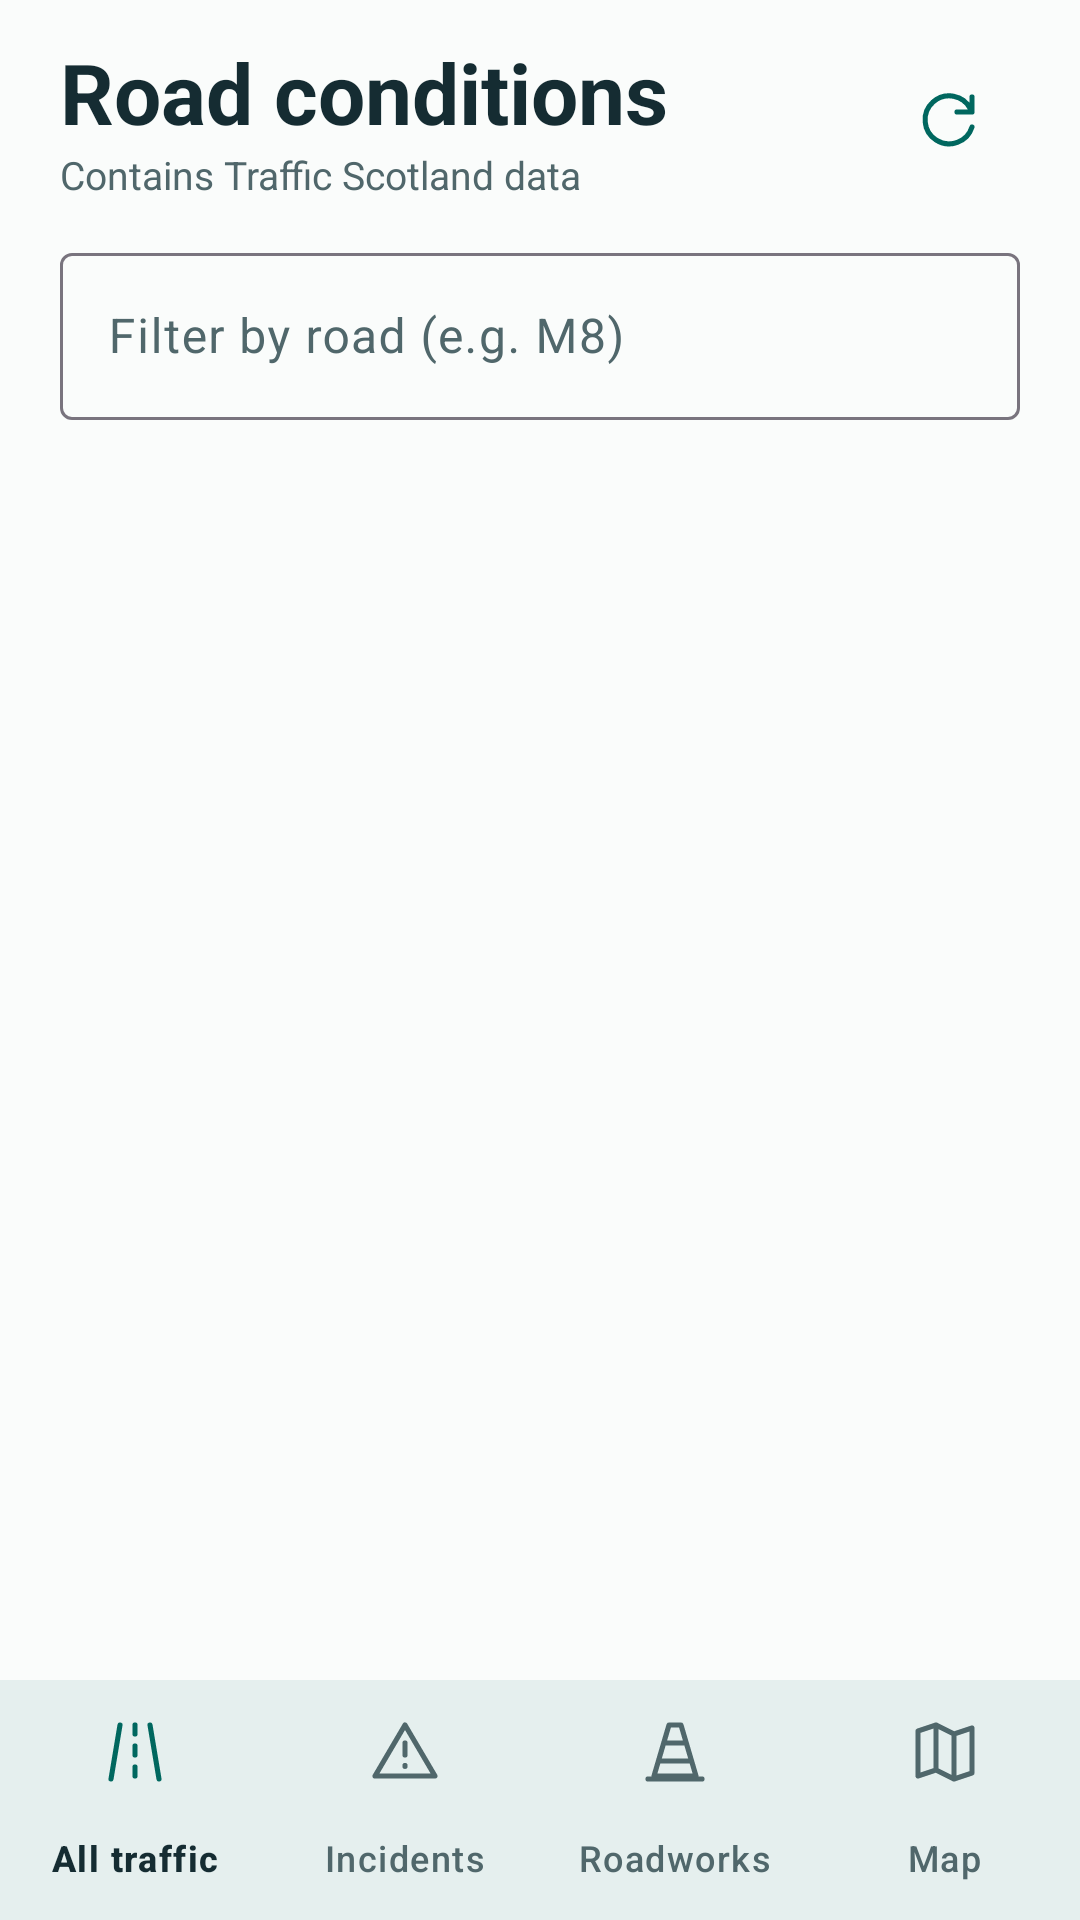

Named icons in this screenshot (1080x1920) and their centers, [x,y]:
Refresh traffic feeds: [948,120]
